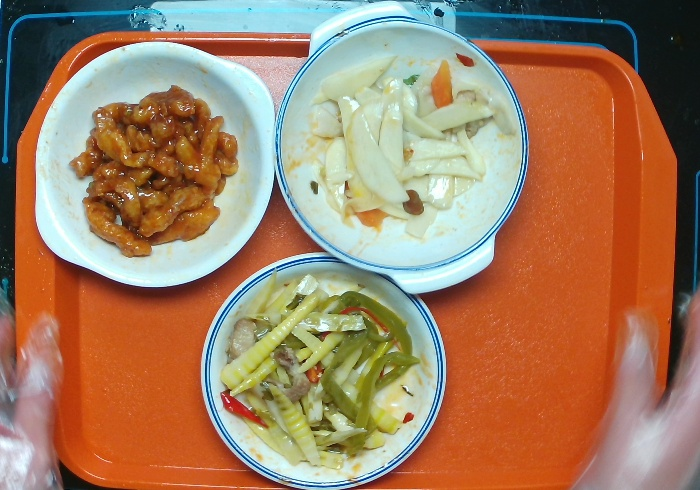HZYJPL-Dai_Er_Bai_Yuan_Wan: (31, 39, 279, 290)
HZYJPL-Lan_Bian_Dai_Er_Wan: (272, 1, 531, 297)
HZYJPL-Lan_Bian_Yuan_Die: (197, 248, 449, 490)
